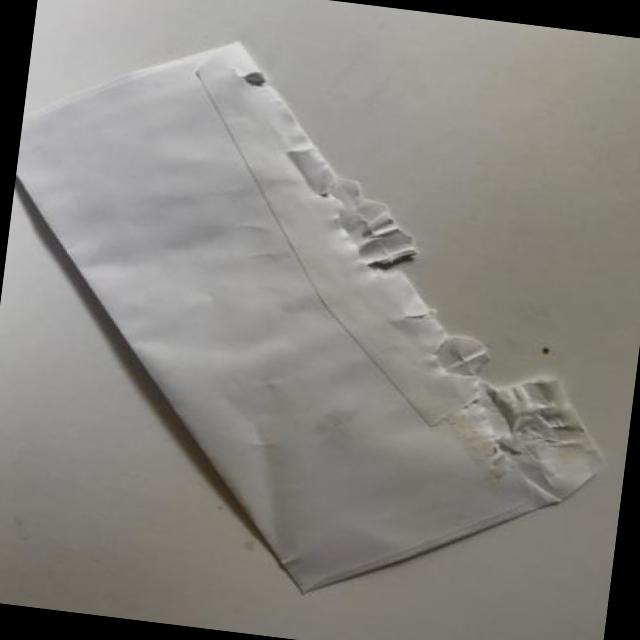paper: (0, 26, 640, 599)
